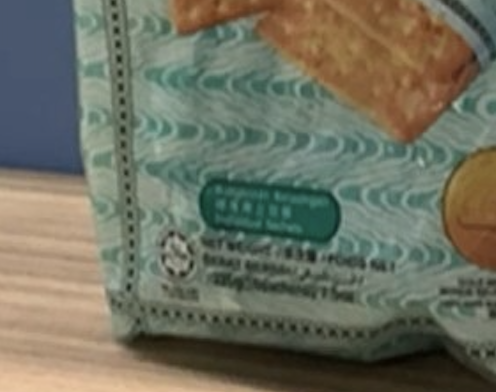halal: (164, 239, 191, 272)
